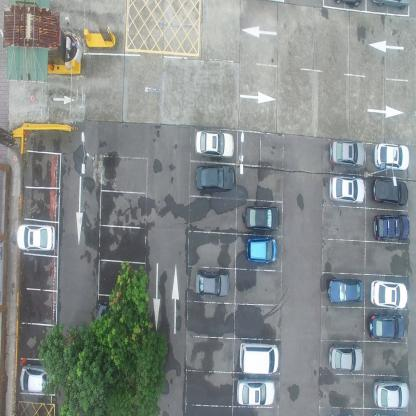car: (238, 340, 279, 376), (96, 301, 134, 333), (370, 278, 407, 310), (373, 378, 410, 410), (195, 130, 234, 160), (16, 223, 56, 252), (195, 163, 234, 192), (236, 377, 275, 406), (373, 212, 410, 242), (371, 177, 408, 207), (368, 312, 405, 342), (330, 172, 366, 202), (328, 342, 364, 372), (374, 142, 410, 171), (244, 204, 280, 233), (195, 268, 229, 298), (330, 138, 366, 166), (327, 276, 363, 304), (20, 363, 52, 394), (246, 236, 277, 263), (372, 0, 409, 13), (334, 0, 362, 8)
